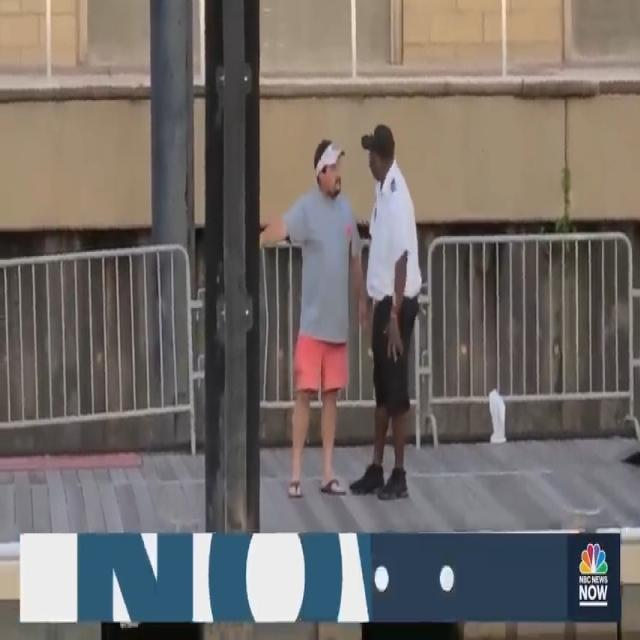non-fight: (262, 124, 421, 504)
